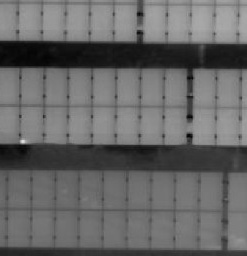solar: (62, 1, 91, 42), (87, 1, 116, 42), (111, 1, 140, 42), (140, 1, 169, 42), (165, 1, 194, 42), (188, 2, 217, 43), (212, 3, 241, 44), (17, 65, 46, 106), (41, 66, 70, 107), (65, 66, 94, 107), (89, 66, 118, 107), (113, 66, 142, 107), (138, 66, 167, 107), (161, 66, 190, 107), (190, 66, 219, 107), (214, 66, 243, 107), (17, 104, 46, 145), (40, 104, 69, 145), (65, 104, 94, 145), (89, 104, 118, 145), (113, 104, 142, 145), (136, 104, 165, 145), (160, 105, 189, 146), (189, 105, 218, 146), (213, 105, 242, 146), (4, 168, 33, 209), (29, 169, 58, 210), (53, 169, 82, 210), (75, 169, 104, 210), (100, 169, 129, 210), (124, 169, 153, 210), (148, 169, 177, 210), (173, 170, 202, 211), (197, 170, 226, 211), (197, 208, 226, 249), (172, 208, 201, 249), (147, 208, 176, 249), (124, 208, 153, 249), (100, 208, 129, 249), (75, 208, 104, 249), (52, 208, 81, 249), (28, 208, 57, 249), (4, 208, 33, 249), (15, 1, 44, 41), (39, 1, 68, 41)
